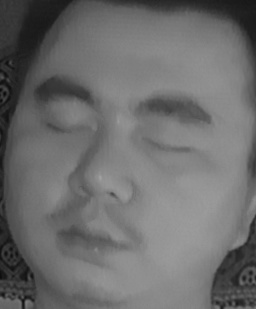blink: (143, 126, 192, 160), (42, 107, 89, 141)
mouth: (55, 209, 132, 267)
